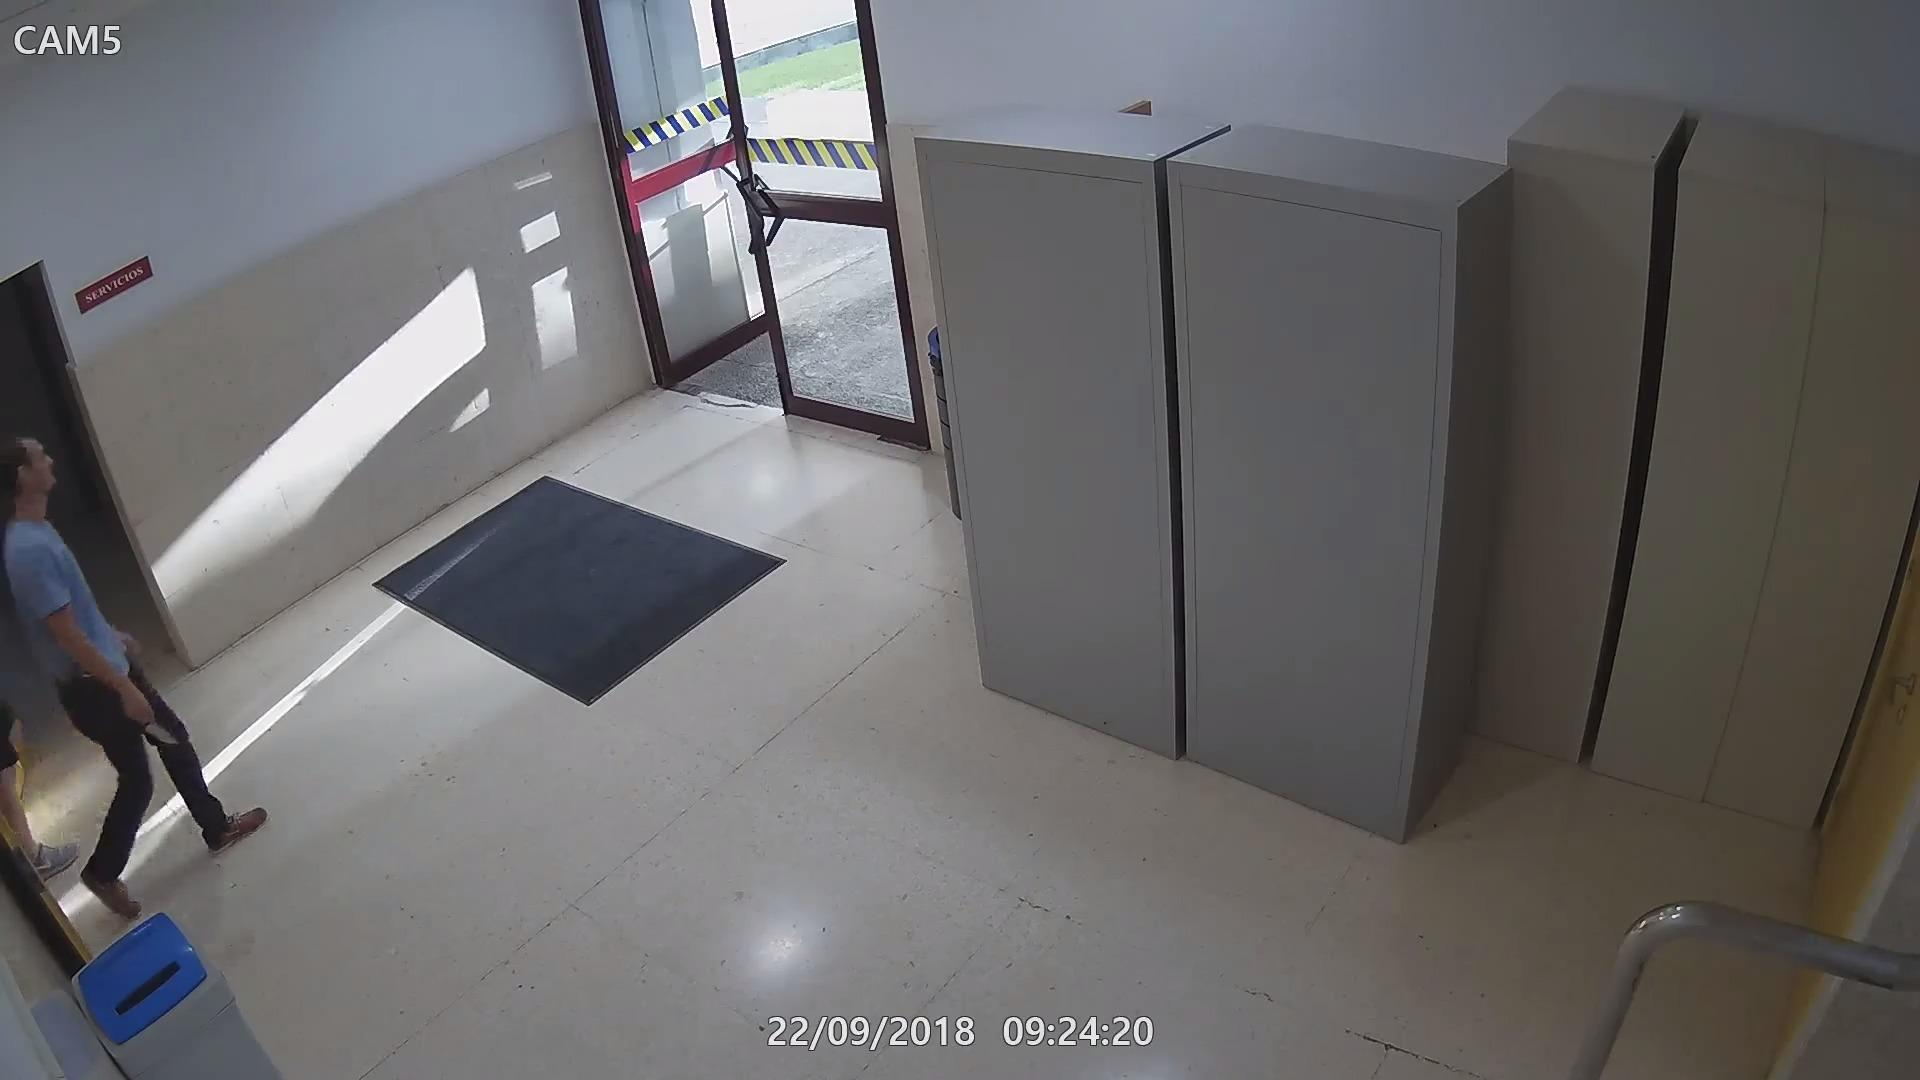Handgun: (66, 654, 98, 690)
